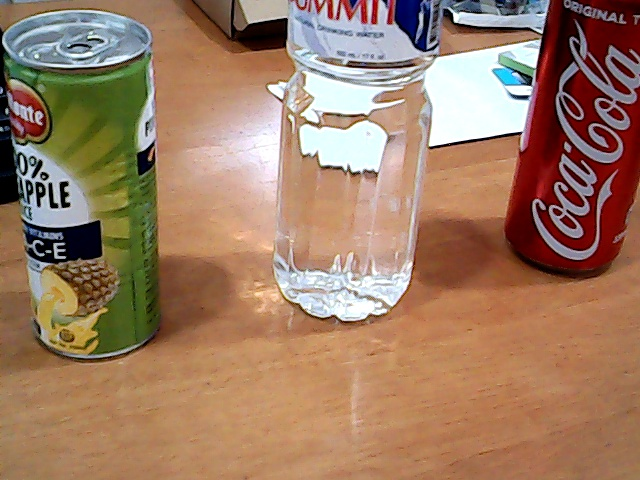Cola: (496, 1, 640, 303)
Pine Juice: (1, 1, 185, 380)
Summit Water: (263, 1, 451, 345)
